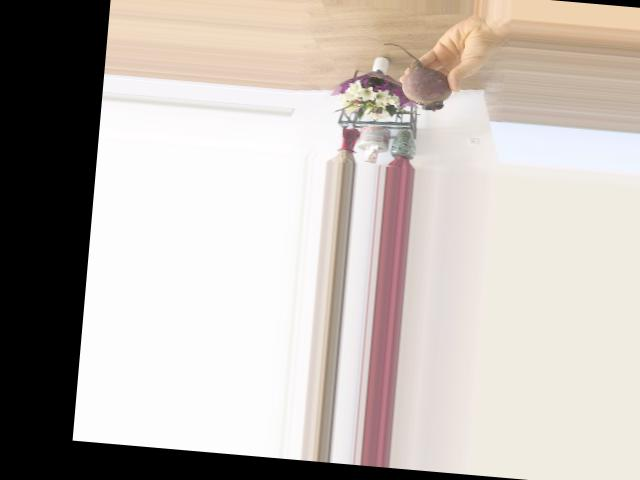beet: (376, 42, 454, 112)
